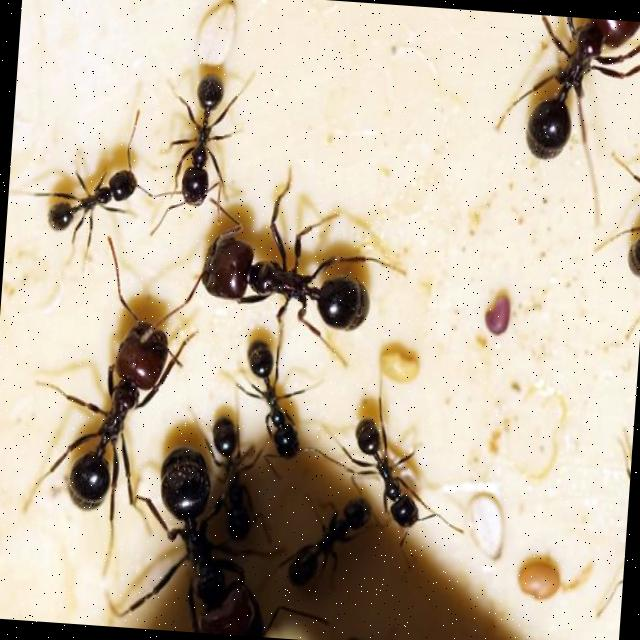Minor: (330, 400, 468, 572), (28, 104, 156, 278), (144, 63, 253, 245), (226, 324, 328, 478), (277, 473, 384, 603), (604, 423, 634, 601)
Soldier: (22, 278, 200, 574), (156, 166, 408, 371), (119, 466, 335, 640)
